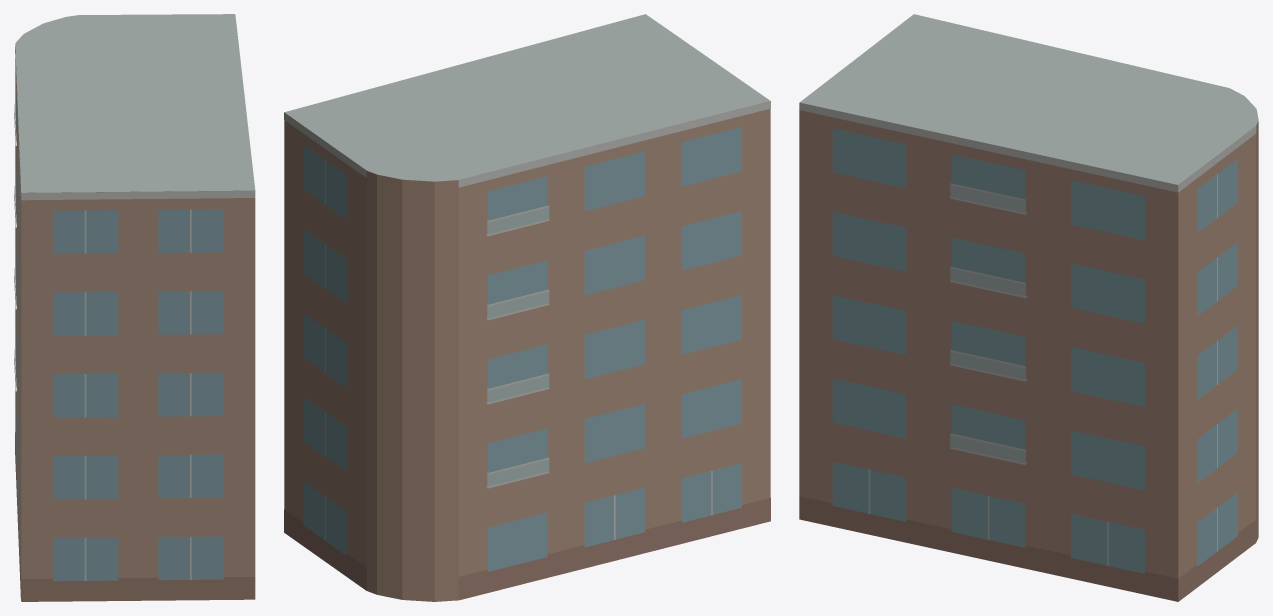
The model's file is survey-upis-32733057.glb.
The picture shows the model from 3 angles, left to right: view 1: azimuth 30°, elevation 25°; view 2: azimuth 150°, elevation 25°; view 3: azimuth 270°, elevation 25°; orthographic projection. The views are drawn at different scales.
Visible parts, largest first — view 1: survey-upis-32733057.tmp; view 2: survey-upis-32733057.tmp; view 3: survey-upis-32733057.tmp.
Part boxes in pixels (x1=…): survey-upis-32733057.tmp: x1=14, y1=14, x2=255, y2=601; survey-upis-32733057.tmp: x1=284, y1=14, x2=770, y2=601; survey-upis-32733057.tmp: x1=799, y1=14, x2=1258, y2=601.
Size of the model in its own units: 11.89 by 13.5 by 13.49.
